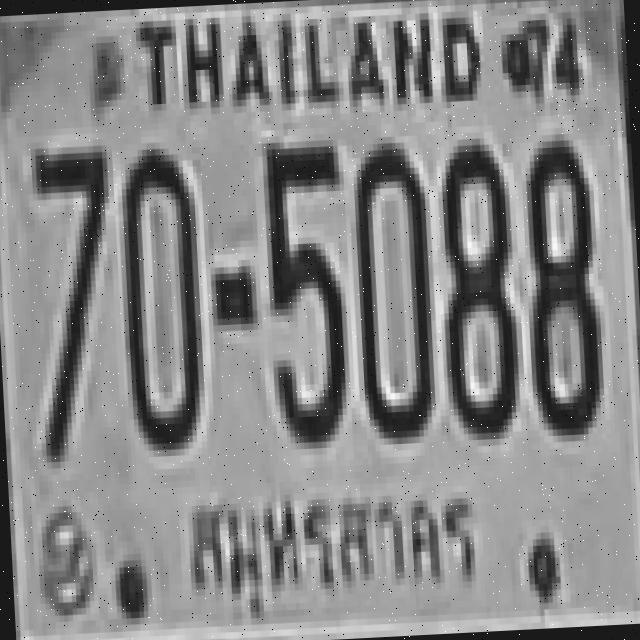0: (117, 142, 204, 446), (347, 138, 432, 436)
5: (260, 139, 350, 444)
7: (29, 146, 120, 450), (30, 146, 116, 418), (30, 142, 111, 338)
8: (431, 137, 517, 436), (520, 133, 602, 431)
SamutSakhon: (178, 472, 498, 630)
